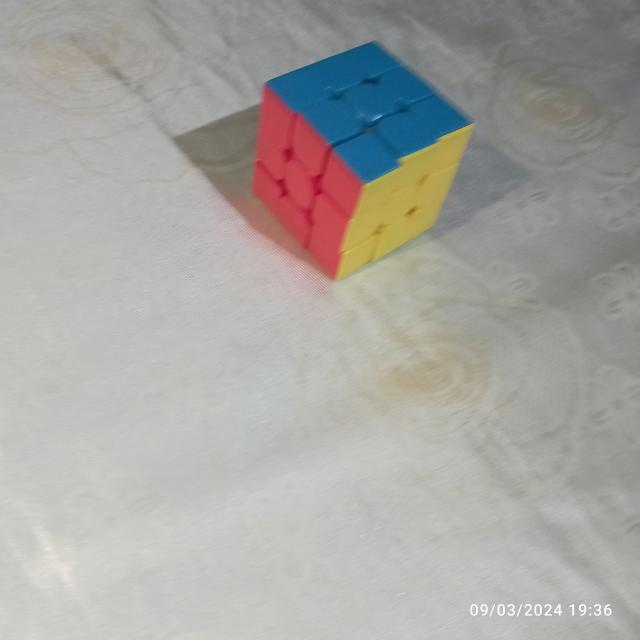Rub: (246, 35, 476, 281)
